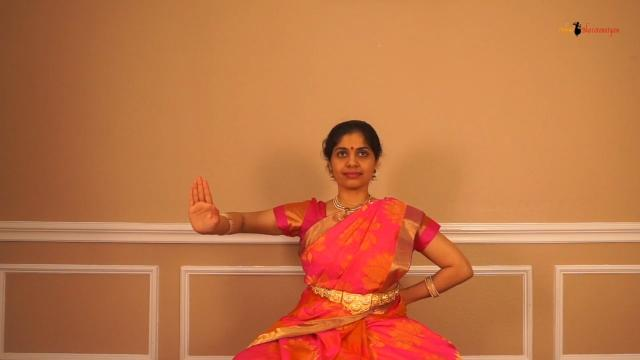pataka: (171, 169, 231, 244)
